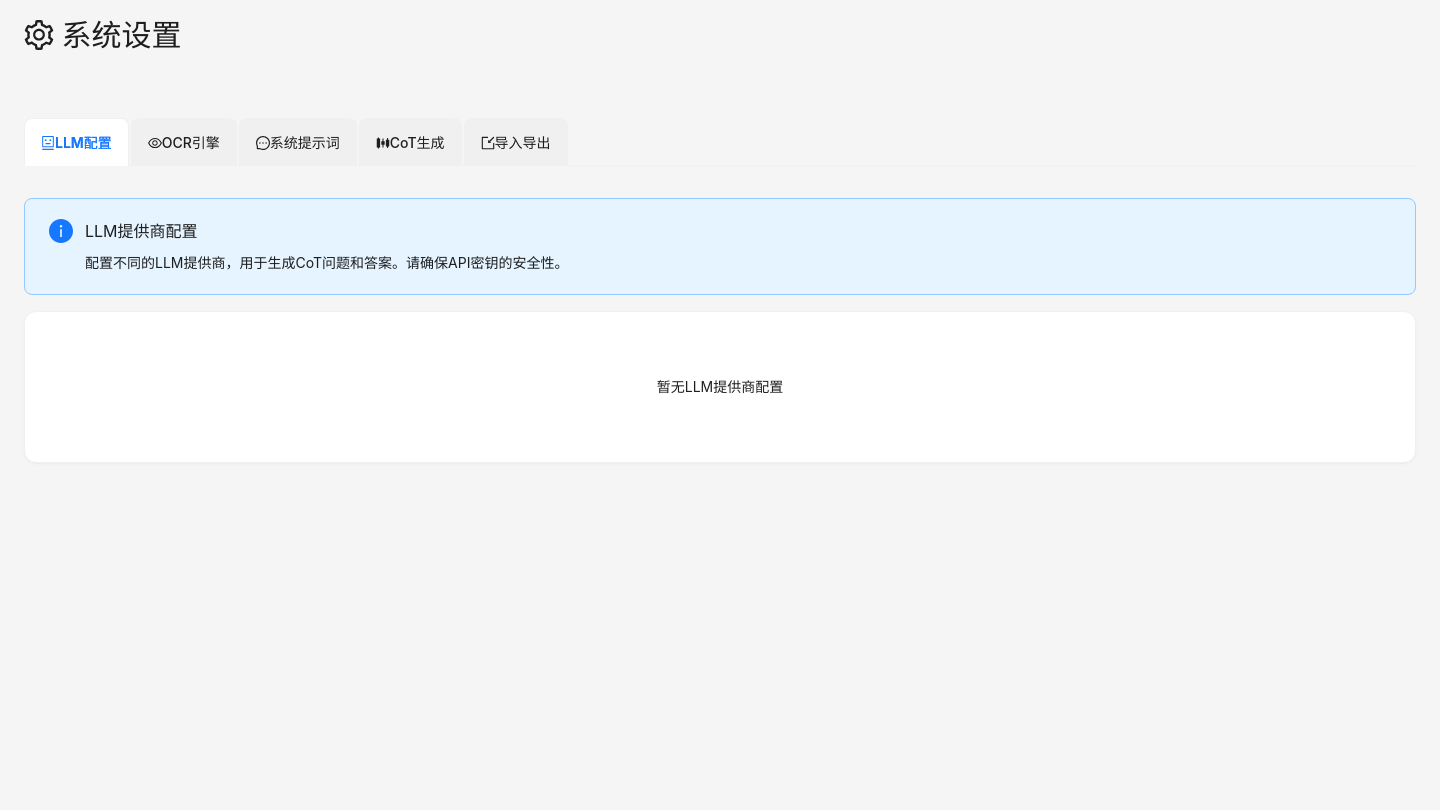
Import/Export Functionality › shows current settings overview
Click the tab "导入导出" at (516, 142), box [481, 130, 551, 154]
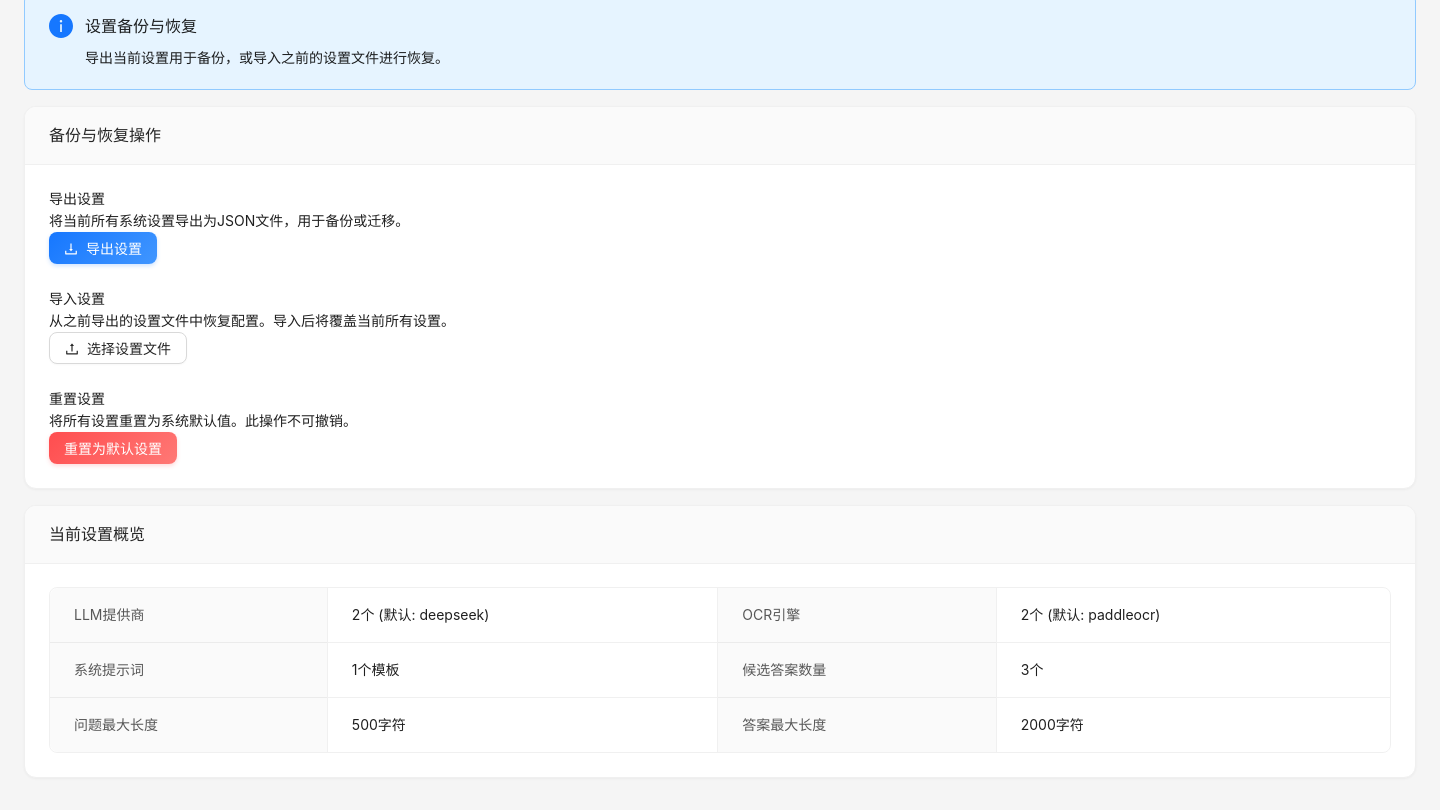
Expected: the text "当前设置概览" is shown, [49, 524, 145, 544]
Expected: the text "2个 (默认: deepseek)" is shown, [352, 606, 489, 623]
Expected: the text "2个 (默认: paddleocr)" is shown, [1021, 606, 1160, 623]
